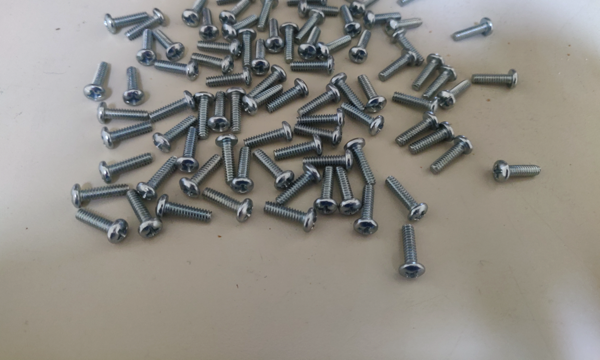shortscrew: (75, 208, 130, 245), (385, 176, 428, 222), (137, 155, 179, 201), (179, 155, 223, 198), (277, 163, 321, 205), (127, 189, 163, 240), (253, 149, 295, 192), (202, 188, 254, 222), (430, 135, 474, 174), (156, 194, 213, 224), (264, 201, 317, 233), (99, 153, 153, 184), (153, 116, 198, 153), (395, 111, 440, 147), (409, 121, 456, 155), (70, 183, 130, 208), (149, 90, 197, 121), (344, 139, 376, 185), (266, 79, 309, 113), (398, 225, 425, 279), (341, 103, 385, 136), (298, 84, 342, 117), (330, 74, 367, 112), (101, 122, 153, 149), (244, 121, 294, 148), (274, 134, 323, 161), (126, 8, 167, 40), (336, 168, 363, 216), (379, 49, 418, 82), (354, 185, 379, 236), (215, 134, 239, 187), (422, 65, 458, 100), (390, 28, 424, 65), (248, 65, 287, 97), (242, 85, 283, 115), (230, 147, 255, 195), (293, 124, 343, 148), (413, 53, 445, 90), (314, 167, 338, 216), (98, 103, 150, 125), (358, 74, 387, 113), (493, 160, 542, 183), (303, 150, 354, 172), (154, 58, 200, 82), (177, 127, 200, 174), (104, 11, 149, 35), (471, 68, 519, 90), (194, 92, 216, 140), (153, 29, 185, 62), (83, 61, 109, 101), (190, 53, 235, 76), (207, 66, 252, 89), (295, 9, 325, 43), (438, 79, 472, 109), (392, 92, 440, 113), (296, 108, 345, 128), (222, 14, 258, 41), (452, 18, 494, 41), (208, 91, 231, 133), (225, 88, 246, 134), (315, 34, 352, 60), (290, 55, 336, 75), (197, 38, 242, 58), (123, 67, 145, 107), (220, 0, 251, 28), (297, 0, 340, 20), (298, 26, 322, 61), (237, 28, 257, 69), (349, 30, 372, 65), (363, 10, 402, 30), (136, 29, 156, 67), (182, 0, 208, 28), (257, 0, 279, 32), (251, 39, 270, 76), (341, 5, 362, 38), (199, 8, 219, 42), (384, 17, 423, 34), (350, 0, 381, 19), (286, 0, 328, 7), (216, 0, 256, 7), (398, 0, 434, 6), (342, 0, 373, 3)
